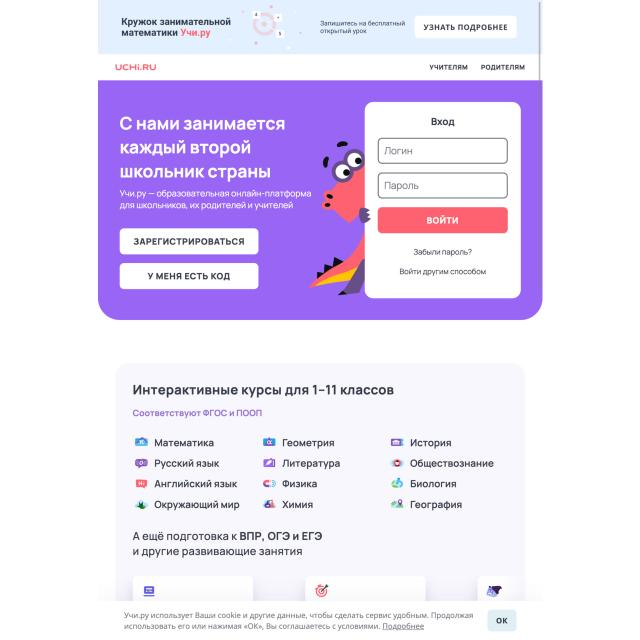content: (115, 363, 526, 601)
input: (377, 171, 509, 200), (376, 136, 508, 164)
logo: (111, 59, 161, 74)
navigation: (131, 431, 505, 518), (426, 61, 528, 75)
